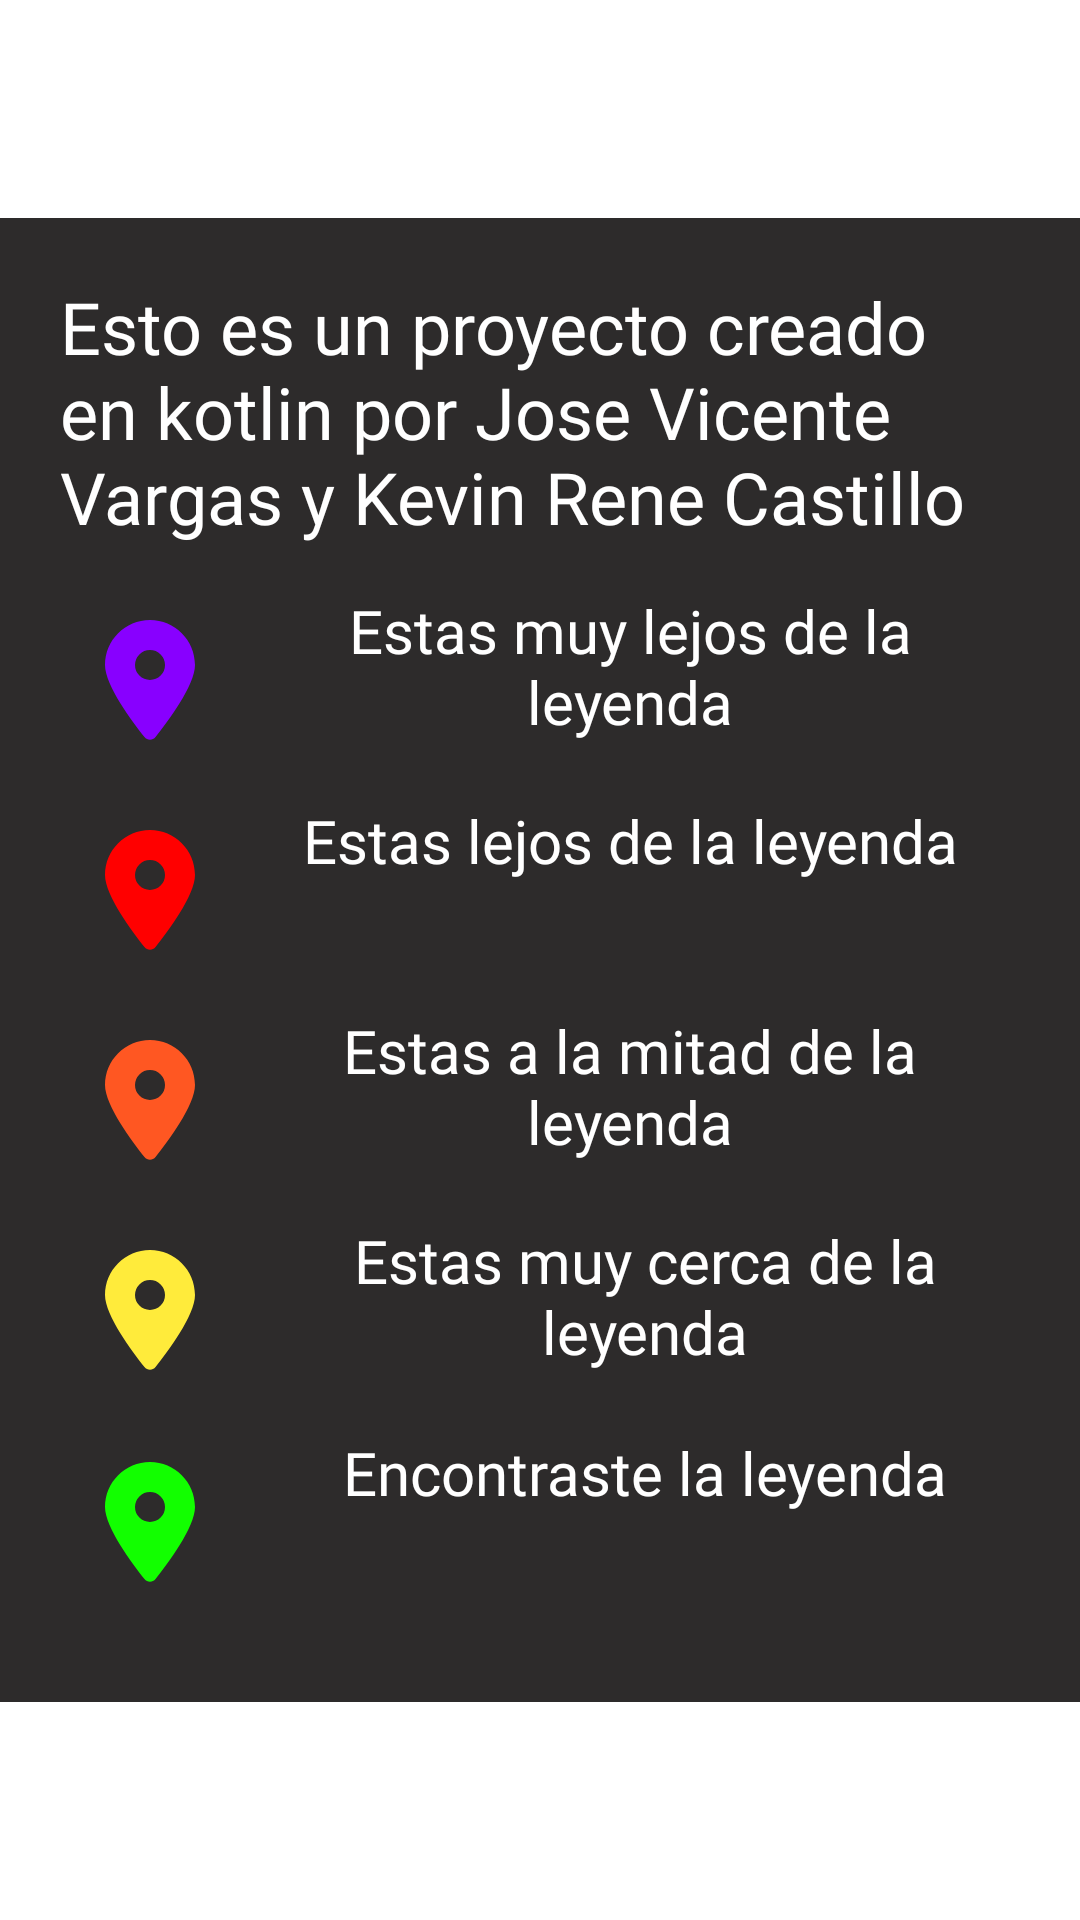

Where icons sit on this 1080w x 1920h app screen, as [x1, y1, x2, y2]:
location dot: [105, 620, 195, 740], [105, 830, 195, 950], [105, 1040, 195, 1160], [105, 1250, 195, 1370], [105, 1462, 195, 1582]
